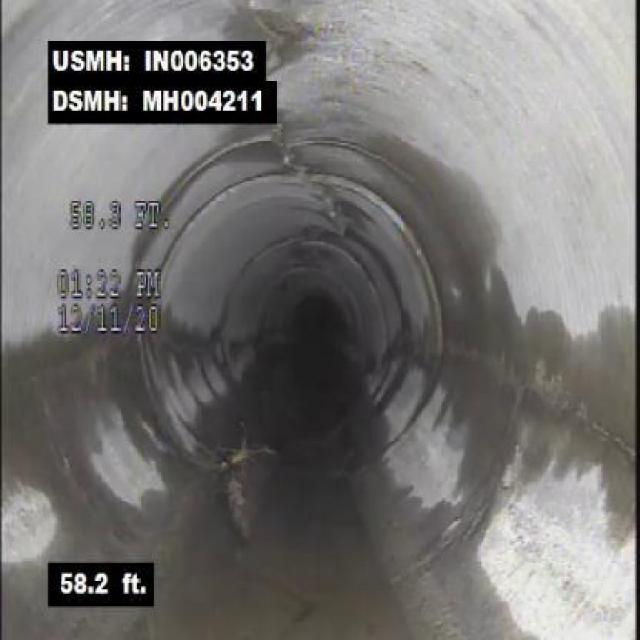Buckling: (217, 438, 280, 551), (271, 128, 340, 218)
Crack: (526, 362, 636, 480)
